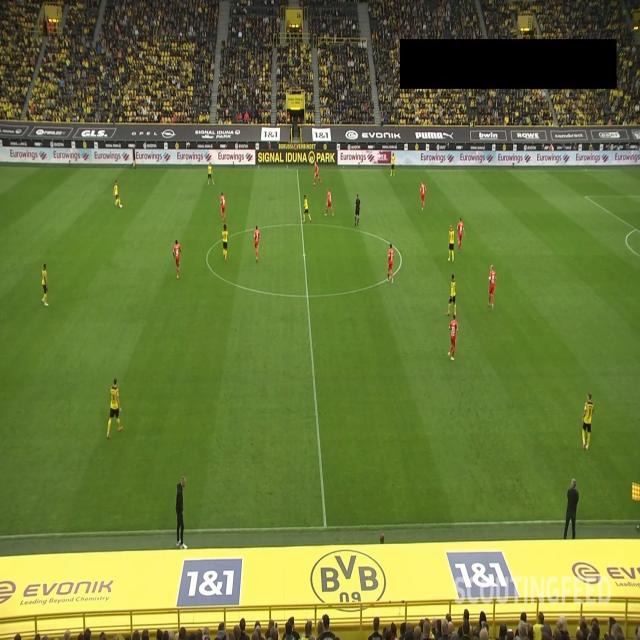ball: (119, 203, 123, 209)
